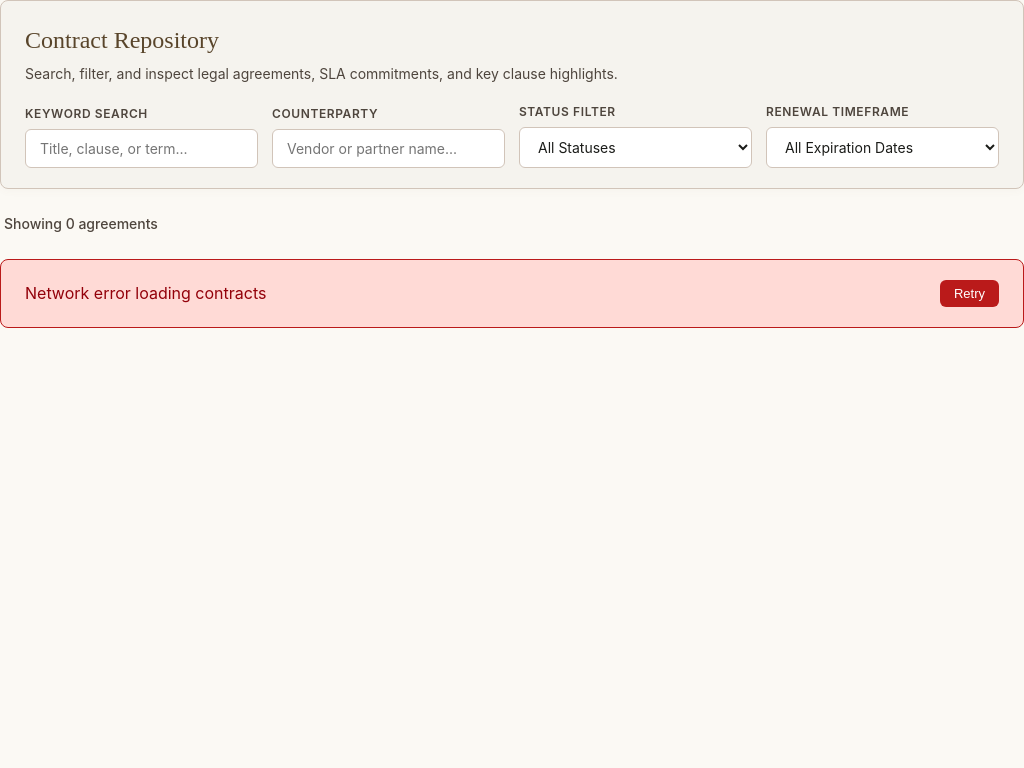
ContractList Component › displays error message and retry button when searchContracts API fails
Expected: the element with test id "error-message" is shown, x1=0 y1=259 x2=1023 y2=328
Expected: the text "Network error loading contracts" is shown, x1=25 y1=281 x2=266 y2=307
Click the button "Retry" at (969, 294), box x1=940 y1=280 x2=999 y2=307
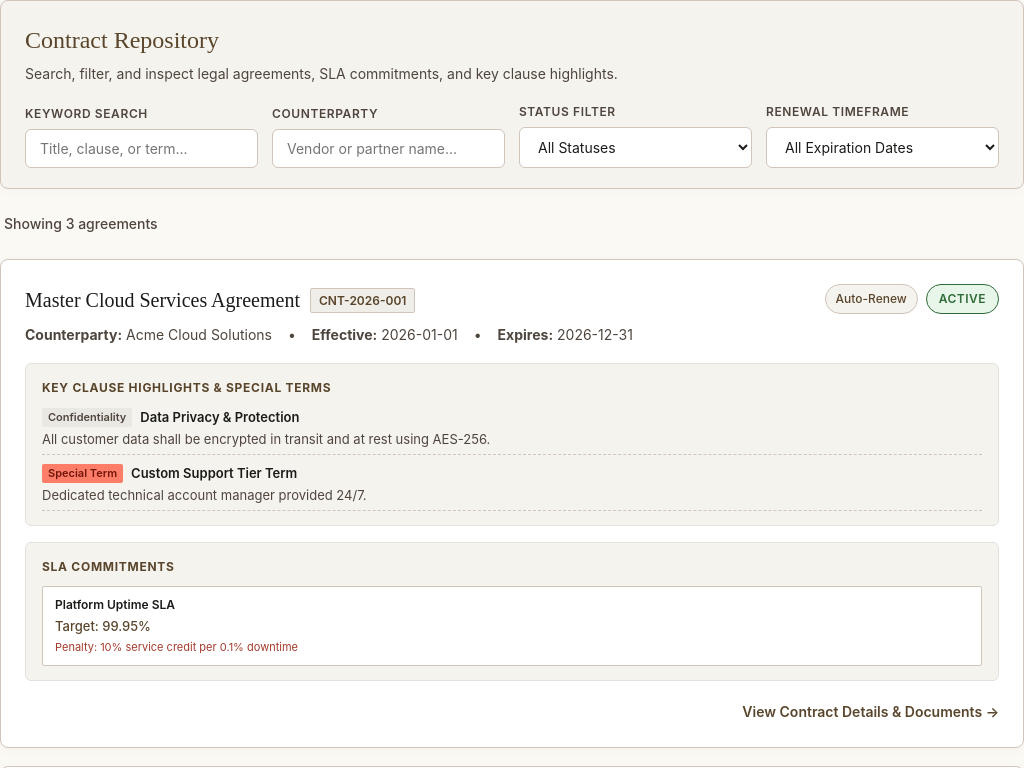
Expected: the heading "Master Cloud Services Agreement" is shown, x1=25 y1=284 x2=300 y2=316
